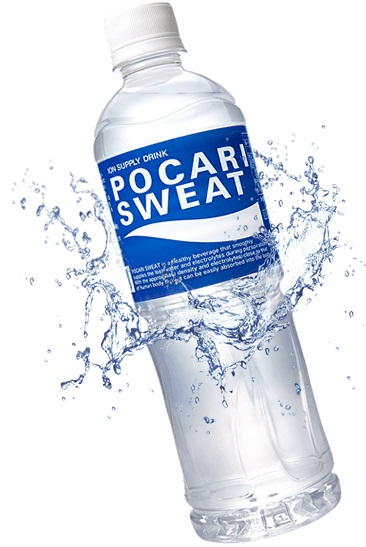POCARI SWEAT: (87, 1, 347, 539)
